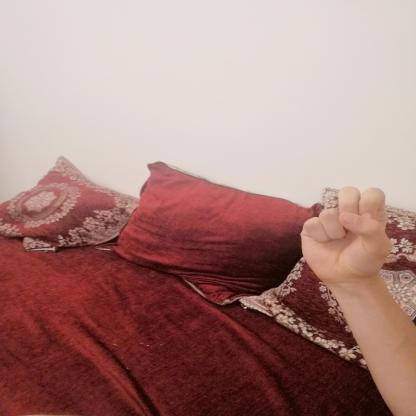QAAF: (287, 176, 409, 294)
